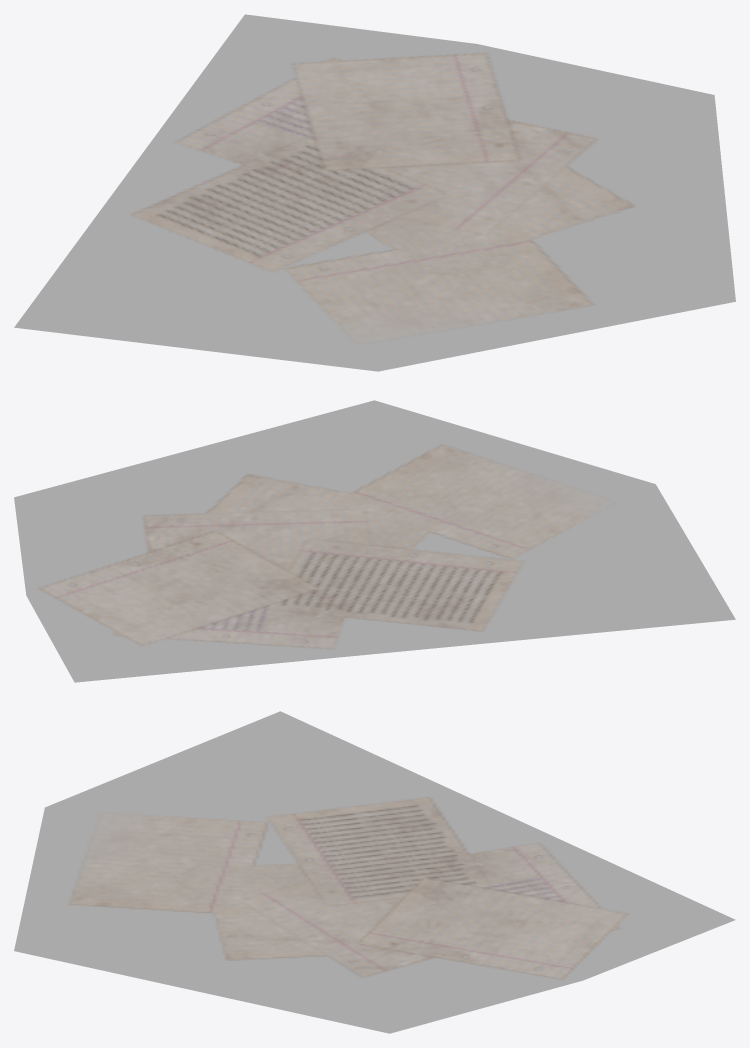
Rendered from SM_Paper_Pile_08.fbx.
3 views of the same model, one above another, from view 1: azimuth 30°, elevation 25°; view 2: azimuth 150°, elevation 25°; view 3: azimuth 270°, elevation 25° (orthographic). The views are drawn at different scales.
Visible parts, largest first — view 1: SM_Paper_Pile_08_LOD0; view 2: SM_Paper_Pile_08_LOD0; view 3: SM_Paper_Pile_08_LOD0.
Boxes of the visible parts, left/top/right/bottom form: SM_Paper_Pile_08_LOD0: left=14, top=14, right=735, bottom=371; SM_Paper_Pile_08_LOD0: left=14, top=400, right=735, bottom=682; SM_Paper_Pile_08_LOD0: left=14, top=711, right=735, bottom=1033.
Bounding box in the file's own units: 60.54 × 57.28 × 2.65e-06.
